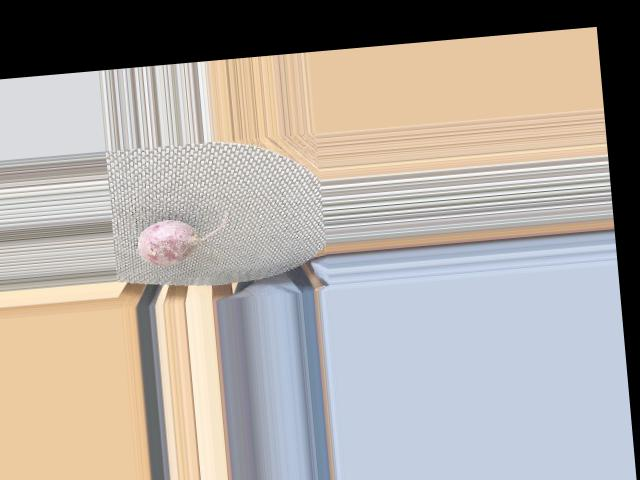beet: (135, 209, 231, 268)
